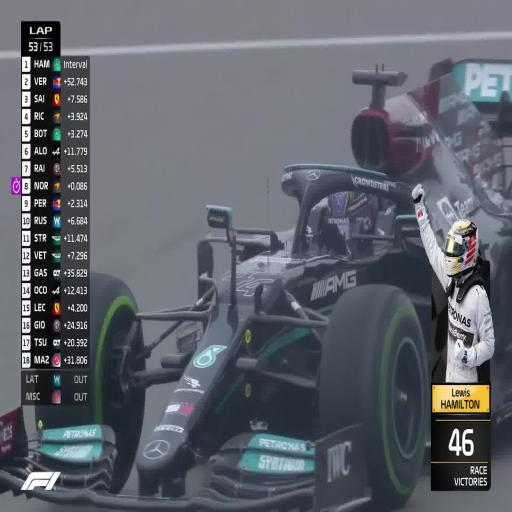f1_car: (0, 61, 512, 510), (491, 63, 509, 73), (486, 87, 489, 92), (487, 69, 488, 70), (487, 368, 488, 368), (482, 86, 483, 86)
